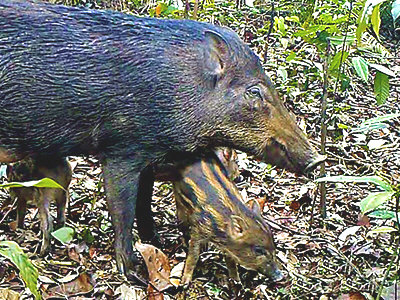boar: (2, 1, 331, 228), (172, 160, 285, 296), (3, 148, 74, 257)
